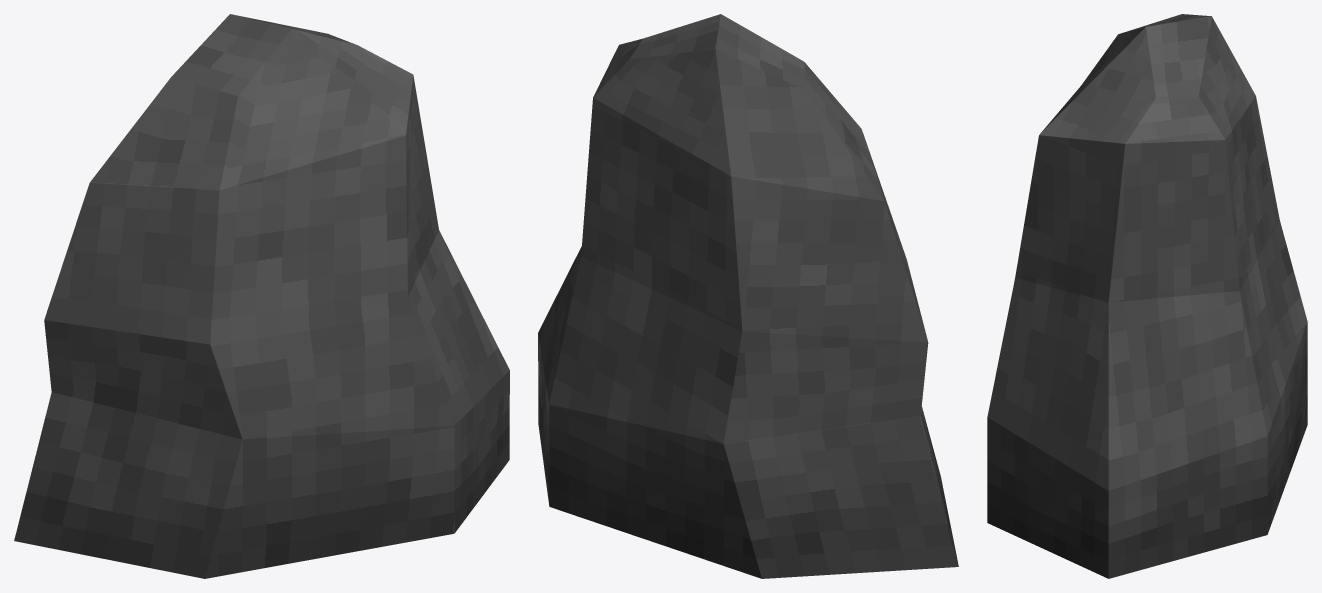
File: Rock_Large.fbx
3 views of the same model, side by side, from view 1: azimuth 30°, elevation 25°; view 2: azimuth 150°, elevation 25°; view 3: azimuth 270°, elevation 25° (orthographic). The views are drawn at different scales.
Parts seen in each view (by area): view 1: pCylinder4; view 2: pCylinder4; view 3: pCylinder4.
Part boxes in pixels (x1,y1,x2,y2): pCylinder4: [14, 14, 509, 578]; pCylinder4: [538, 14, 958, 578]; pCylinder4: [987, 14, 1307, 578].
Bounding box in the file's own units: 104 × 102 × 64.63.
